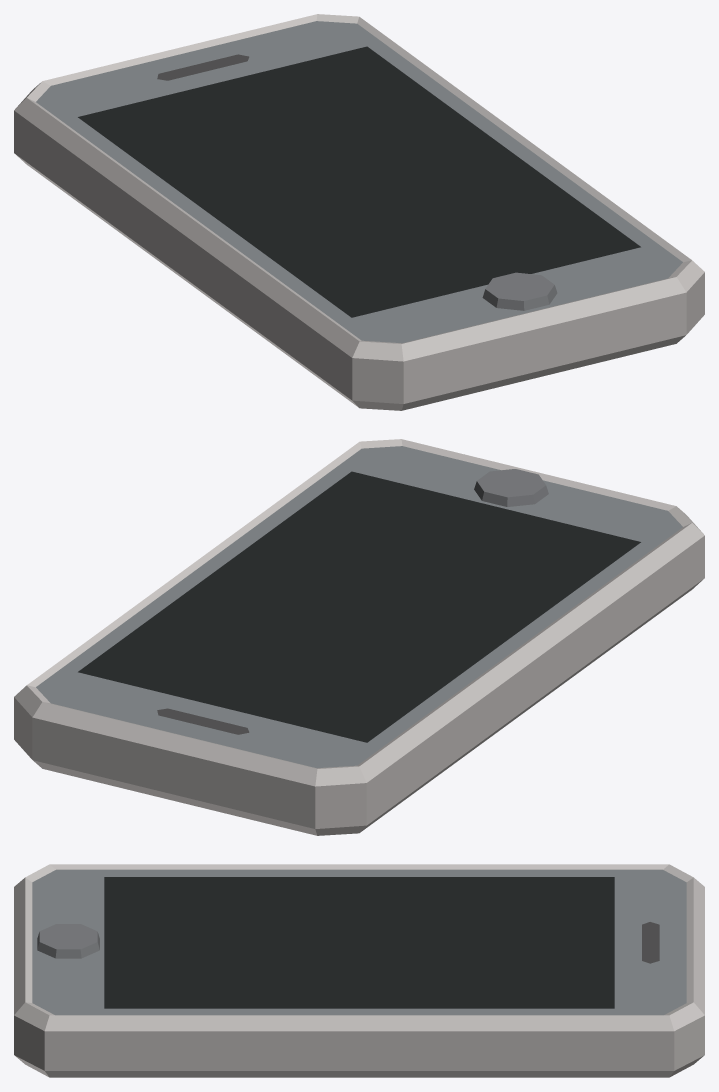
Rendered from SM_Prop_Cellphone_01.obj.
3 views of the same model, one above another, from view 1: azimuth 30°, elevation 25°; view 2: azimuth 150°, elevation 25°; view 3: azimuth 270°, elevation 25° (orthographic). The views are drawn at different scales.
Visible parts, largest first — view 1: SM_Prop_Cellphone_01_0; view 2: SM_Prop_Cellphone_01_0; view 3: SM_Prop_Cellphone_01_0.
Part boxes in pixels (box(x1,y1,x2,y2)): SM_Prop_Cellphone_01_0: box(14, 14, 704, 410); SM_Prop_Cellphone_01_0: box(14, 439, 704, 835); SM_Prop_Cellphone_01_0: box(14, 864, 704, 1077).
Size of the model in its own units: 0.1263 by 0.0283 by 0.2302.
Materials: 1 (1 with a texture image).
